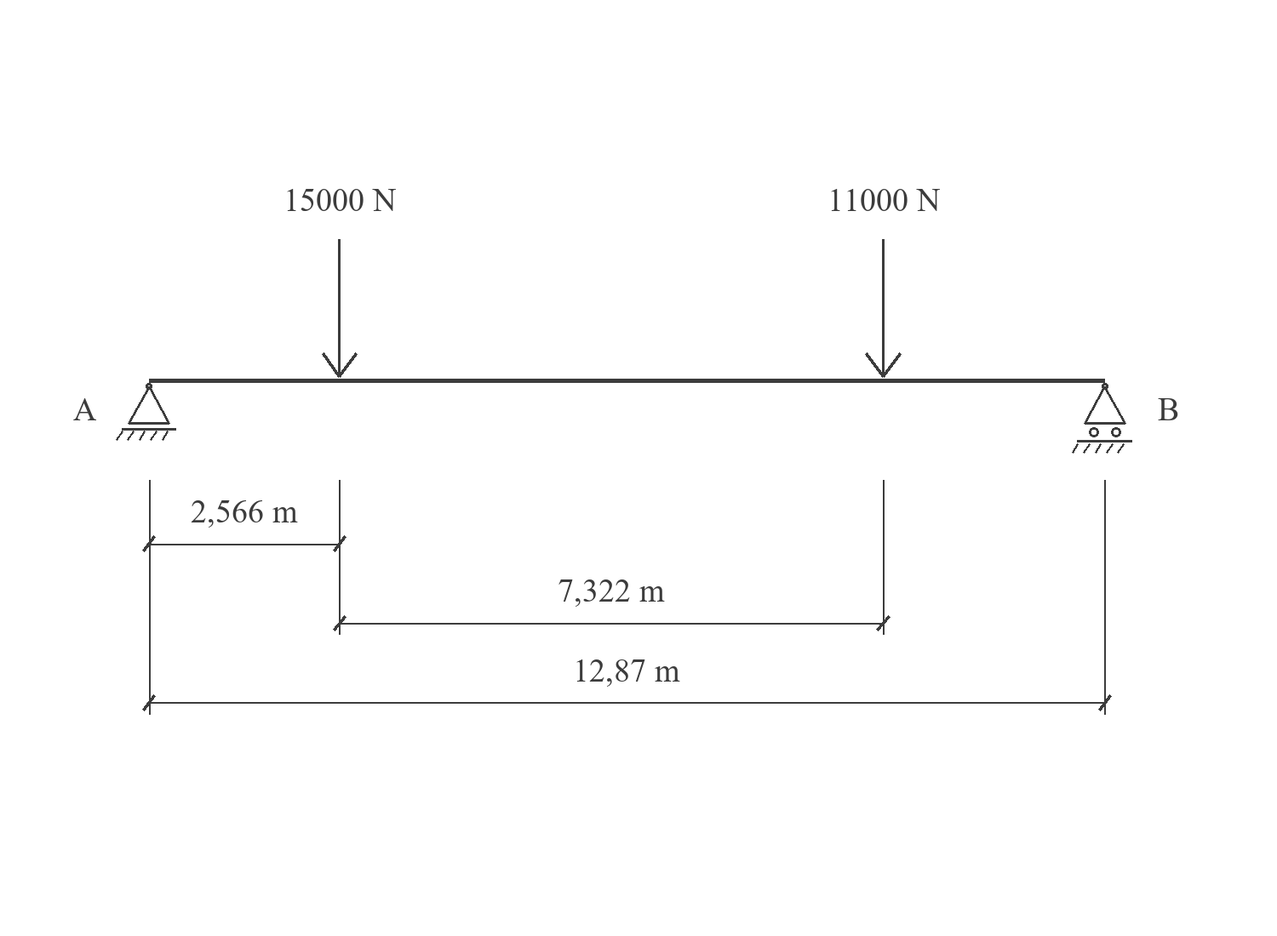pin_support: (116, 383, 176, 441)
point_load: (865, 239, 902, 378), (322, 239, 358, 378)
roller_support: (1072, 383, 1132, 454)
